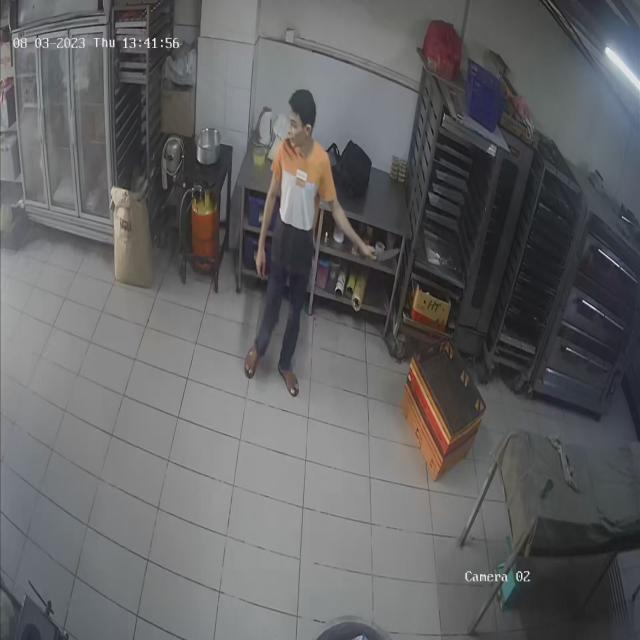Knife: (366, 227, 414, 269)
